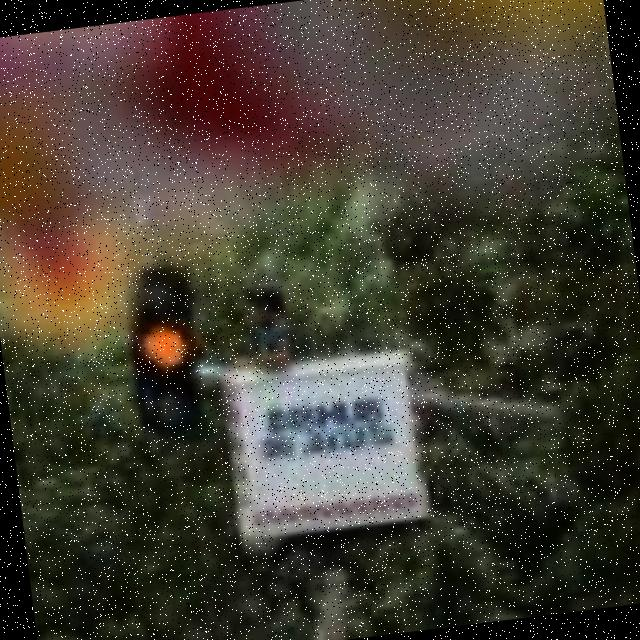Zolte swiatlo: (124, 266, 210, 440)
